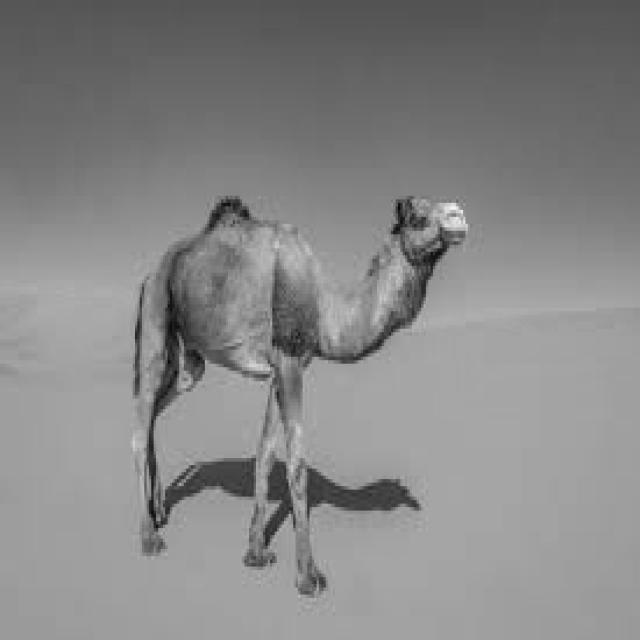Camel: (130, 192, 468, 594)
